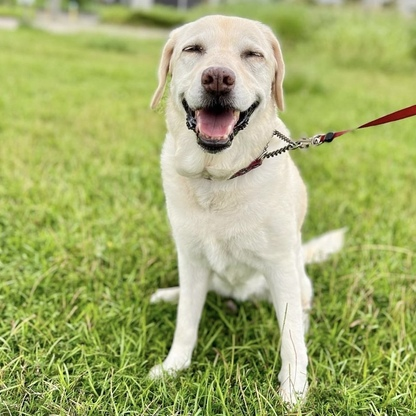labrado: (141, 8, 351, 411)
